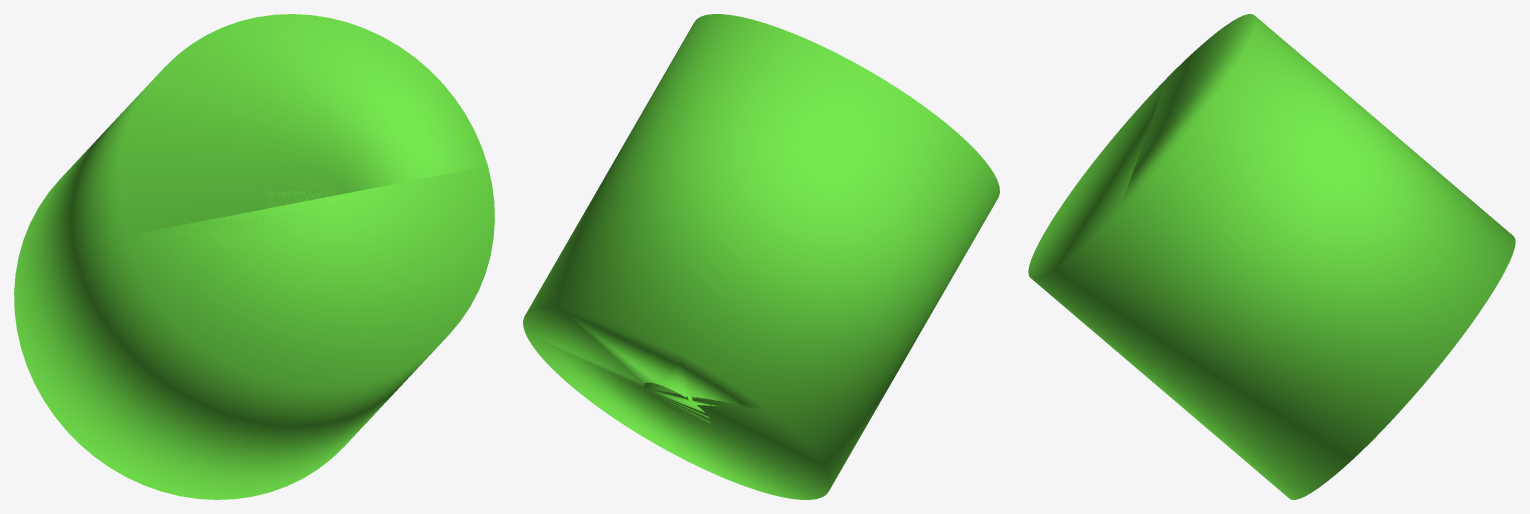
File: slime1.fbx
The picture shows the model from 3 angles, left to right: view 1: azimuth 30°, elevation 25°; view 2: azimuth 150°, elevation 25°; view 3: azimuth 270°, elevation 25°; orthographic projection. The views are drawn at different scales.
Parts seen in each view (by area): view 1: Cylinder; view 2: Cylinder; view 3: Cylinder.
Part boxes in pixels (x1,y1,x2,y2): Cylinder: (14, 14, 494, 499); Cylinder: (523, 14, 999, 499); Cylinder: (1028, 14, 1515, 499).
Size of the model in its own units: 4.63 by 5.85 by 5.86.
